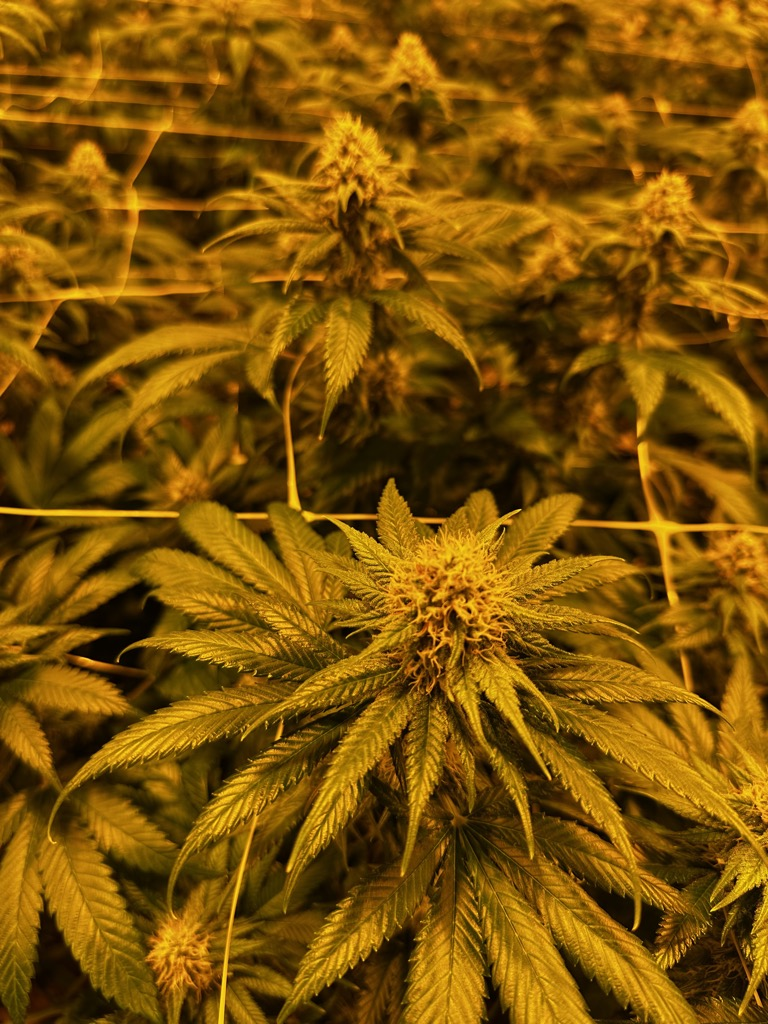Bud: (345, 520, 526, 695), (302, 112, 401, 236), (633, 168, 709, 253), (137, 924, 225, 991), (386, 37, 453, 99), (714, 518, 767, 594), (50, 137, 117, 190)
Leaf: (541, 647, 767, 867), (436, 827, 591, 1023), (67, 655, 312, 777), (281, 678, 415, 892), (197, 502, 322, 634), (71, 317, 273, 392), (386, 273, 502, 403), (322, 256, 377, 475), (608, 354, 671, 445)
